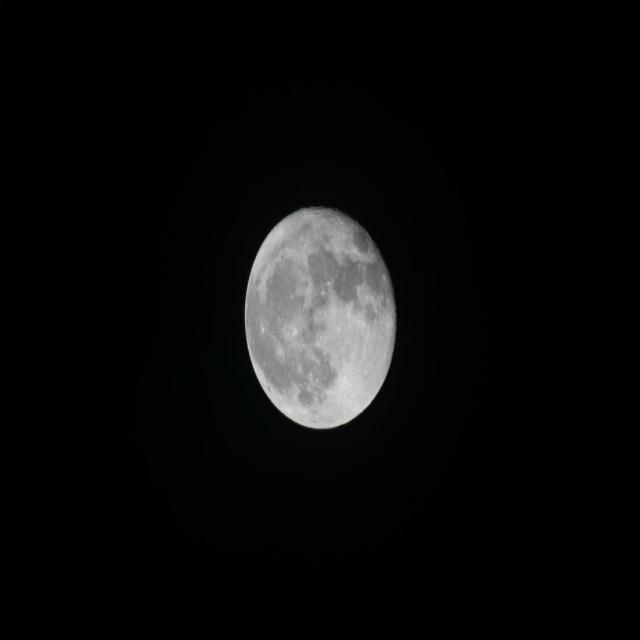moon: (235, 196, 408, 449)
